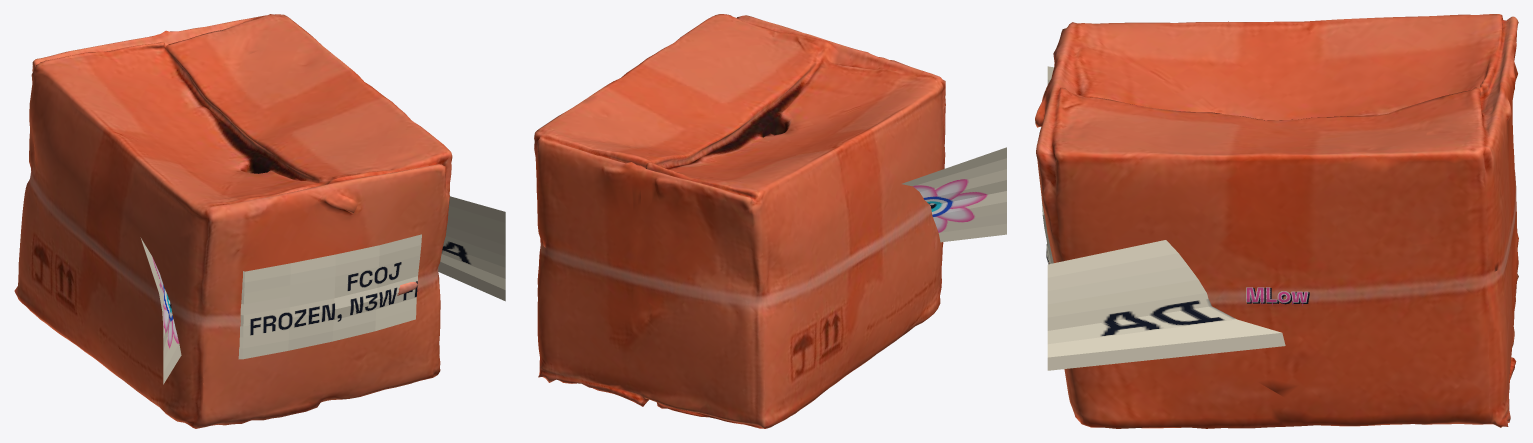
The model's file is nyb_trading_box.glb.
3 renders of one model, left to right at view 1: azimuth 30°, elevation 25°; view 2: azimuth 150°, elevation 25°; view 3: azimuth 270°, elevation 25°, orthographic. The views are drawn at different scales.
Visible parts, largest first — view 1: cardboard_box_01, stk_lbl_b12f9d0451.png; view 2: cardboard_box_01, stk_lbl_b12f9d0451.png; view 3: cardboard_box_01, stk_lbl_b12f9d0451.png, stk_tag_mlow.png.
Boxes of the visible parts, x1,y1,x2,y2 form: cardboard_box_01: (14,14,452,428); stk_lbl_b12f9d0451.png: (140,196,505,384); cardboard_box_01: (534,14,945,428); stk_lbl_b12f9d0451.png: (902,147,1006,242); cardboard_box_01: (1035,14,1518,428); stk_lbl_b12f9d0451.png: (1041,66,1285,370); stk_tag_mlow.png: (1246,287,1309,305).
Bounding box in the file's own units: 0.5 × 0.3418 × 0.5159.
3 materials, 3 textured.
